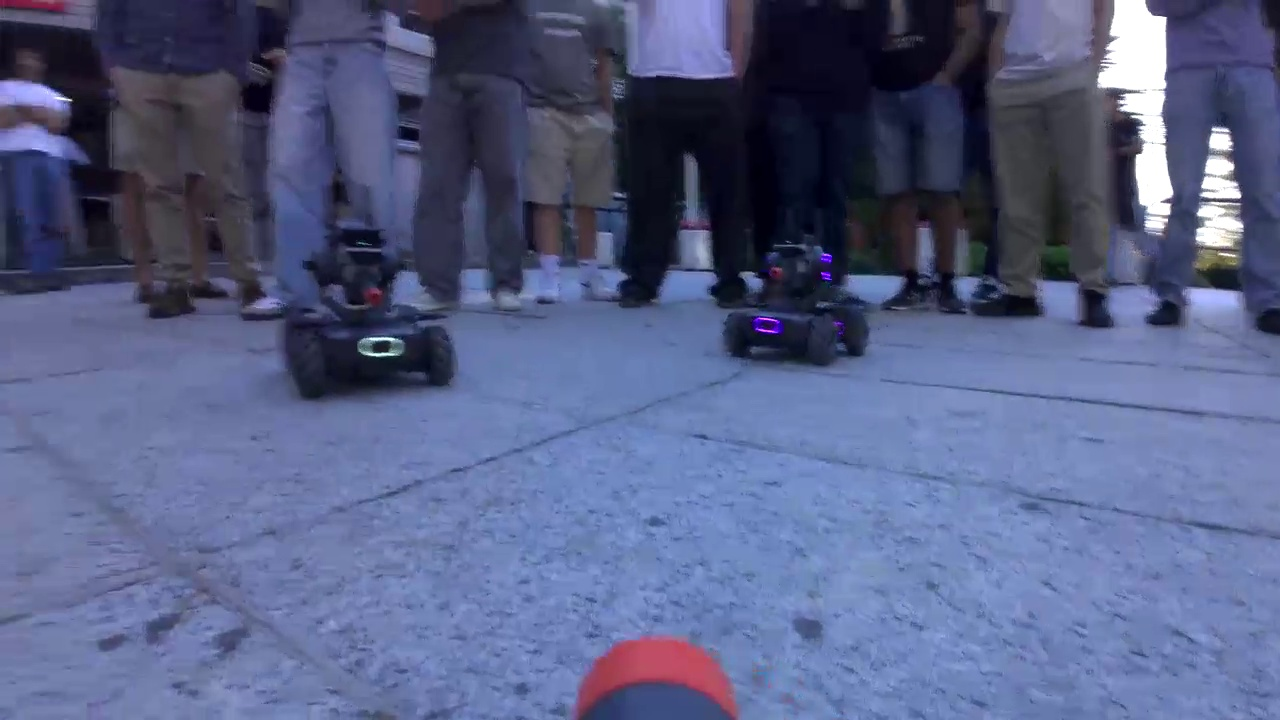robot: (283, 218, 458, 402), (724, 239, 872, 367)
